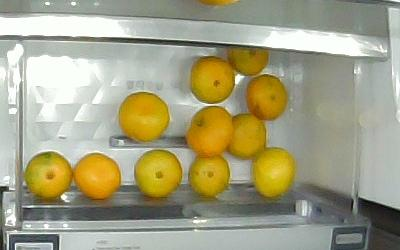tangerine: (118, 92, 170, 143), (249, 147, 299, 199), (24, 150, 73, 202), (186, 106, 232, 156), (73, 153, 121, 200), (135, 149, 182, 197), (191, 56, 235, 104), (246, 75, 290, 122), (227, 113, 269, 162), (188, 153, 231, 199), (227, 48, 271, 76)
